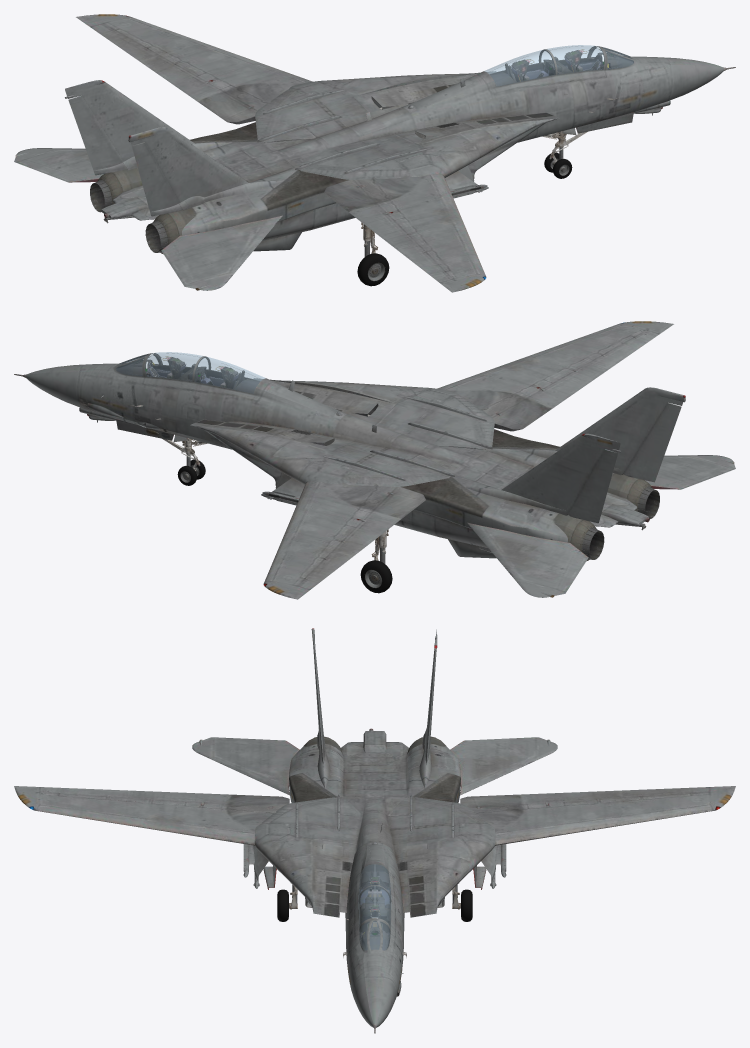
3 views of the same model, one above another, from view 1: azimuth 30°, elevation 25°; view 2: azimuth 150°, elevation 25°; view 3: azimuth 270°, elevation 25° (orthographic). The views are drawn at different scales.
Parts seen in each view (by area): view 1: f14a-airframe_0, f14a-canopyFr_1, f14a-gearOn_4, f14a-cockpit_2; view 2: f14a-airframe_0, f14a-canopyFr_1, f14a-gearOn_4, f14a-cockpit_2; view 3: f14a-airframe_0, f14a-cockpit_2, f14a-canopyFr_1, f14a-gearOn_4.
Part boxes in pixels (bbox=[...]): f14a-airframe_0: bbox=[14, 14, 735, 292]; f14a-canopyFr_1: bbox=[484, 45, 633, 86]; f14a-gearOn_4: bbox=[357, 112, 633, 286]; f14a-cockpit_2: bbox=[488, 46, 633, 86]; f14a-airframe_0: bbox=[14, 321, 735, 599]; f14a-canopyFr_1: bbox=[116, 352, 265, 393]; f14a-gearOn_4: bbox=[116, 419, 392, 593]; f14a-cockpit_2: bbox=[116, 353, 261, 393]; f14a-airframe_0: bbox=[14, 628, 735, 1033]; f14a-cockpit_2: bbox=[358, 864, 391, 950]; f14a-canopyFr_1: bbox=[358, 864, 391, 950]; f14a-gearOn_4: bbox=[263, 865, 486, 921].
Size of the model in its own units: 192 by 55.65 by 195.
Materials: 3 (2 with a texture image).
